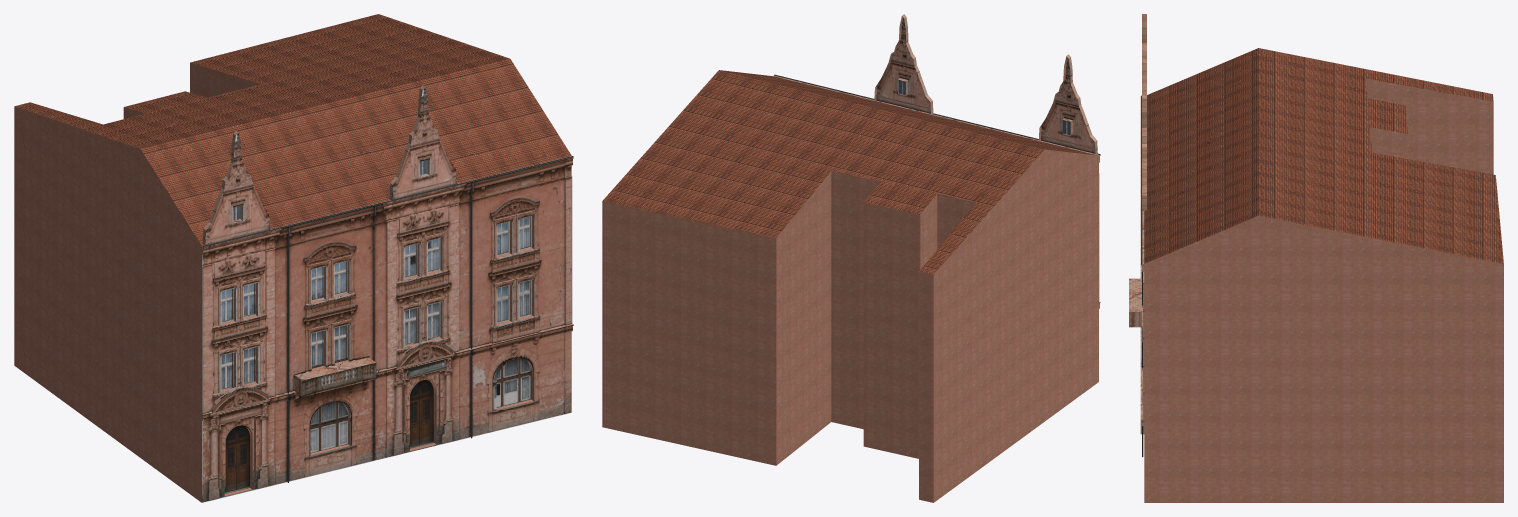
3 renders of one model, left to right at view 1: azimuth 30°, elevation 25°; view 2: azimuth 150°, elevation 25°; view 3: azimuth 270°, elevation 25°, orthographic. The views are drawn at different scales.
Visible parts, largest first — view 1: CP57_photo_registered_masonry, CP57_roof, CP57_GIS_envelope, CP57_gutters_and_railing; view 2: CP57_GIS_envelope, CP57_roof, CP57_photo_registered_masonry; view 3: CP57_GIS_envelope, CP57_roof, CP57_photo_registered_masonry.
Part boxes in pixels (x1=…): CP57_photo_registered_masonry: x1=199, y1=85, x2=573, y2=502; CP57_roof: x1=14, y1=14, x2=571, y2=245; CP57_GIS_envelope: x1=14, y1=64, x2=230, y2=501; CP57_gutters_and_railing: x1=203, y1=156, x2=573, y2=482; CP57_GIS_envelope: x1=602, y1=157, x2=1098, y2=502; CP57_roof: x1=602, y1=70, x2=1098, y2=276; CP57_photo_registered_masonry: x1=773, y1=14, x2=1100, y2=383; CP57_GIS_envelope: x1=1144, y1=103, x2=1503, y2=502; CP57_roof: x1=1144, y1=48, x2=1503, y2=264; CP57_photo_registered_masonry: x1=1129, y1=14, x2=1146, y2=434.
Bounding box in the file's own units: 26.08 × 24.43 × 24.61.
Materials: 7 (6 with a texture image).
